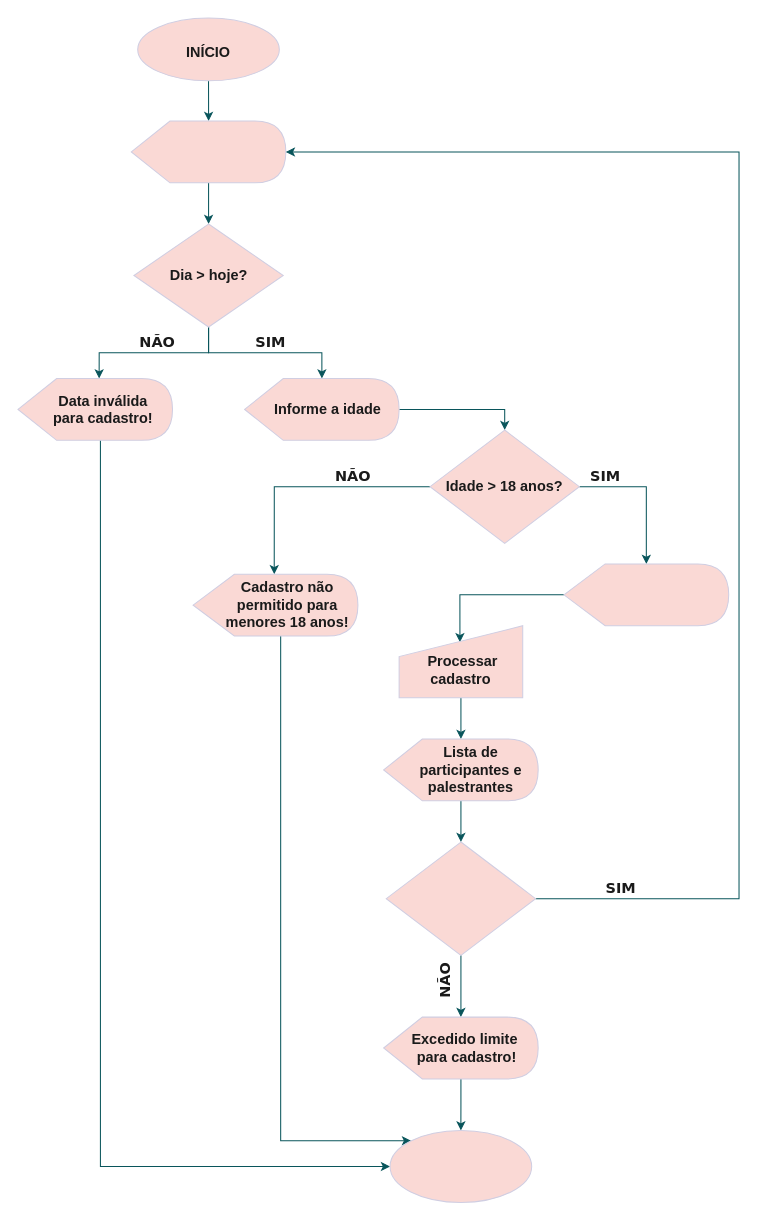
Some shapes in this 765 by 1221 pixel diagram are drawn without their labels. Each missing label, with the box of its shape:
Continue com o cadastro: (563, 563, 729, 626)
FIM: (389, 1129, 532, 1203)
Informe a data: (130, 120, 286, 183)
Participantes<100?: (385, 841, 536, 955)
